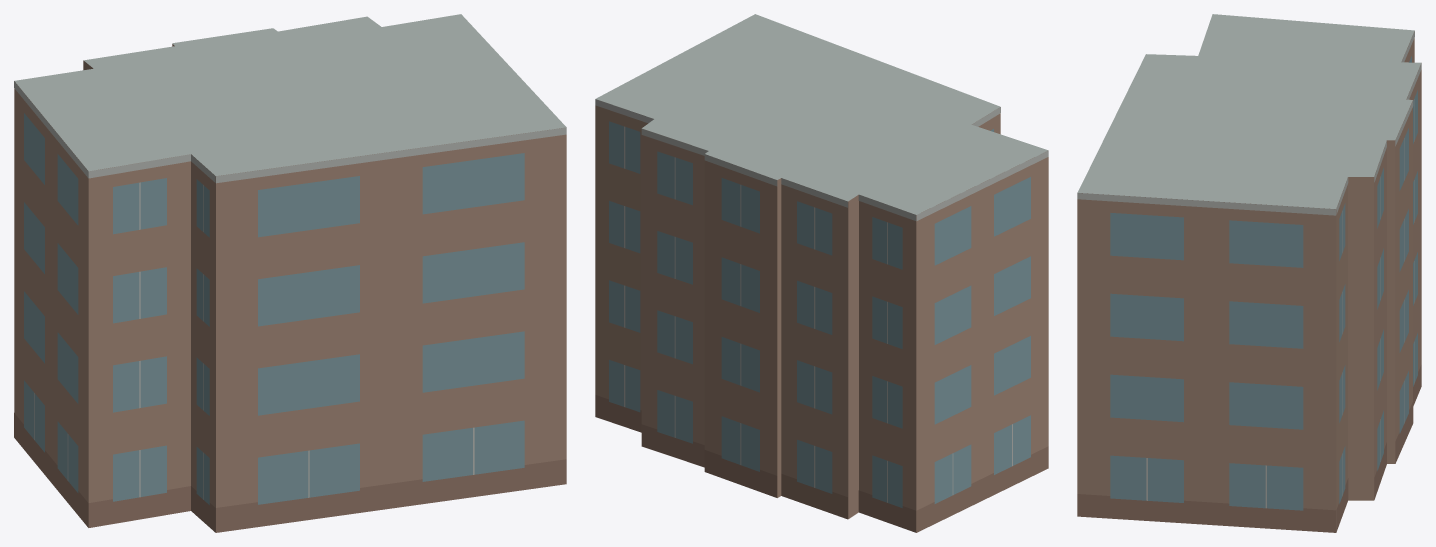
Rendered from survey-upis-32647857.glb.
3 views of the same model, side by side, from view 1: azimuth 30°, elevation 25°; view 2: azimuth 150°, elevation 25°; view 3: azimuth 270°, elevation 25° (orthographic). The views are drawn at different scales.
Visible parts, largest first — view 1: survey-upis-32647857.tmp; view 2: survey-upis-32647857.tmp; view 3: survey-upis-32647857.tmp.
Part boxes in pixels (left/top/right/bottom): survey-upis-32647857.tmp: left=14, top=14, right=566, bottom=532; survey-upis-32647857.tmp: left=595, top=14, right=1048, bottom=532; survey-upis-32647857.tmp: left=1077, top=14, right=1421, bottom=532.
Size of the model in its own units: 15.78 by 12.2 by 11.76.
